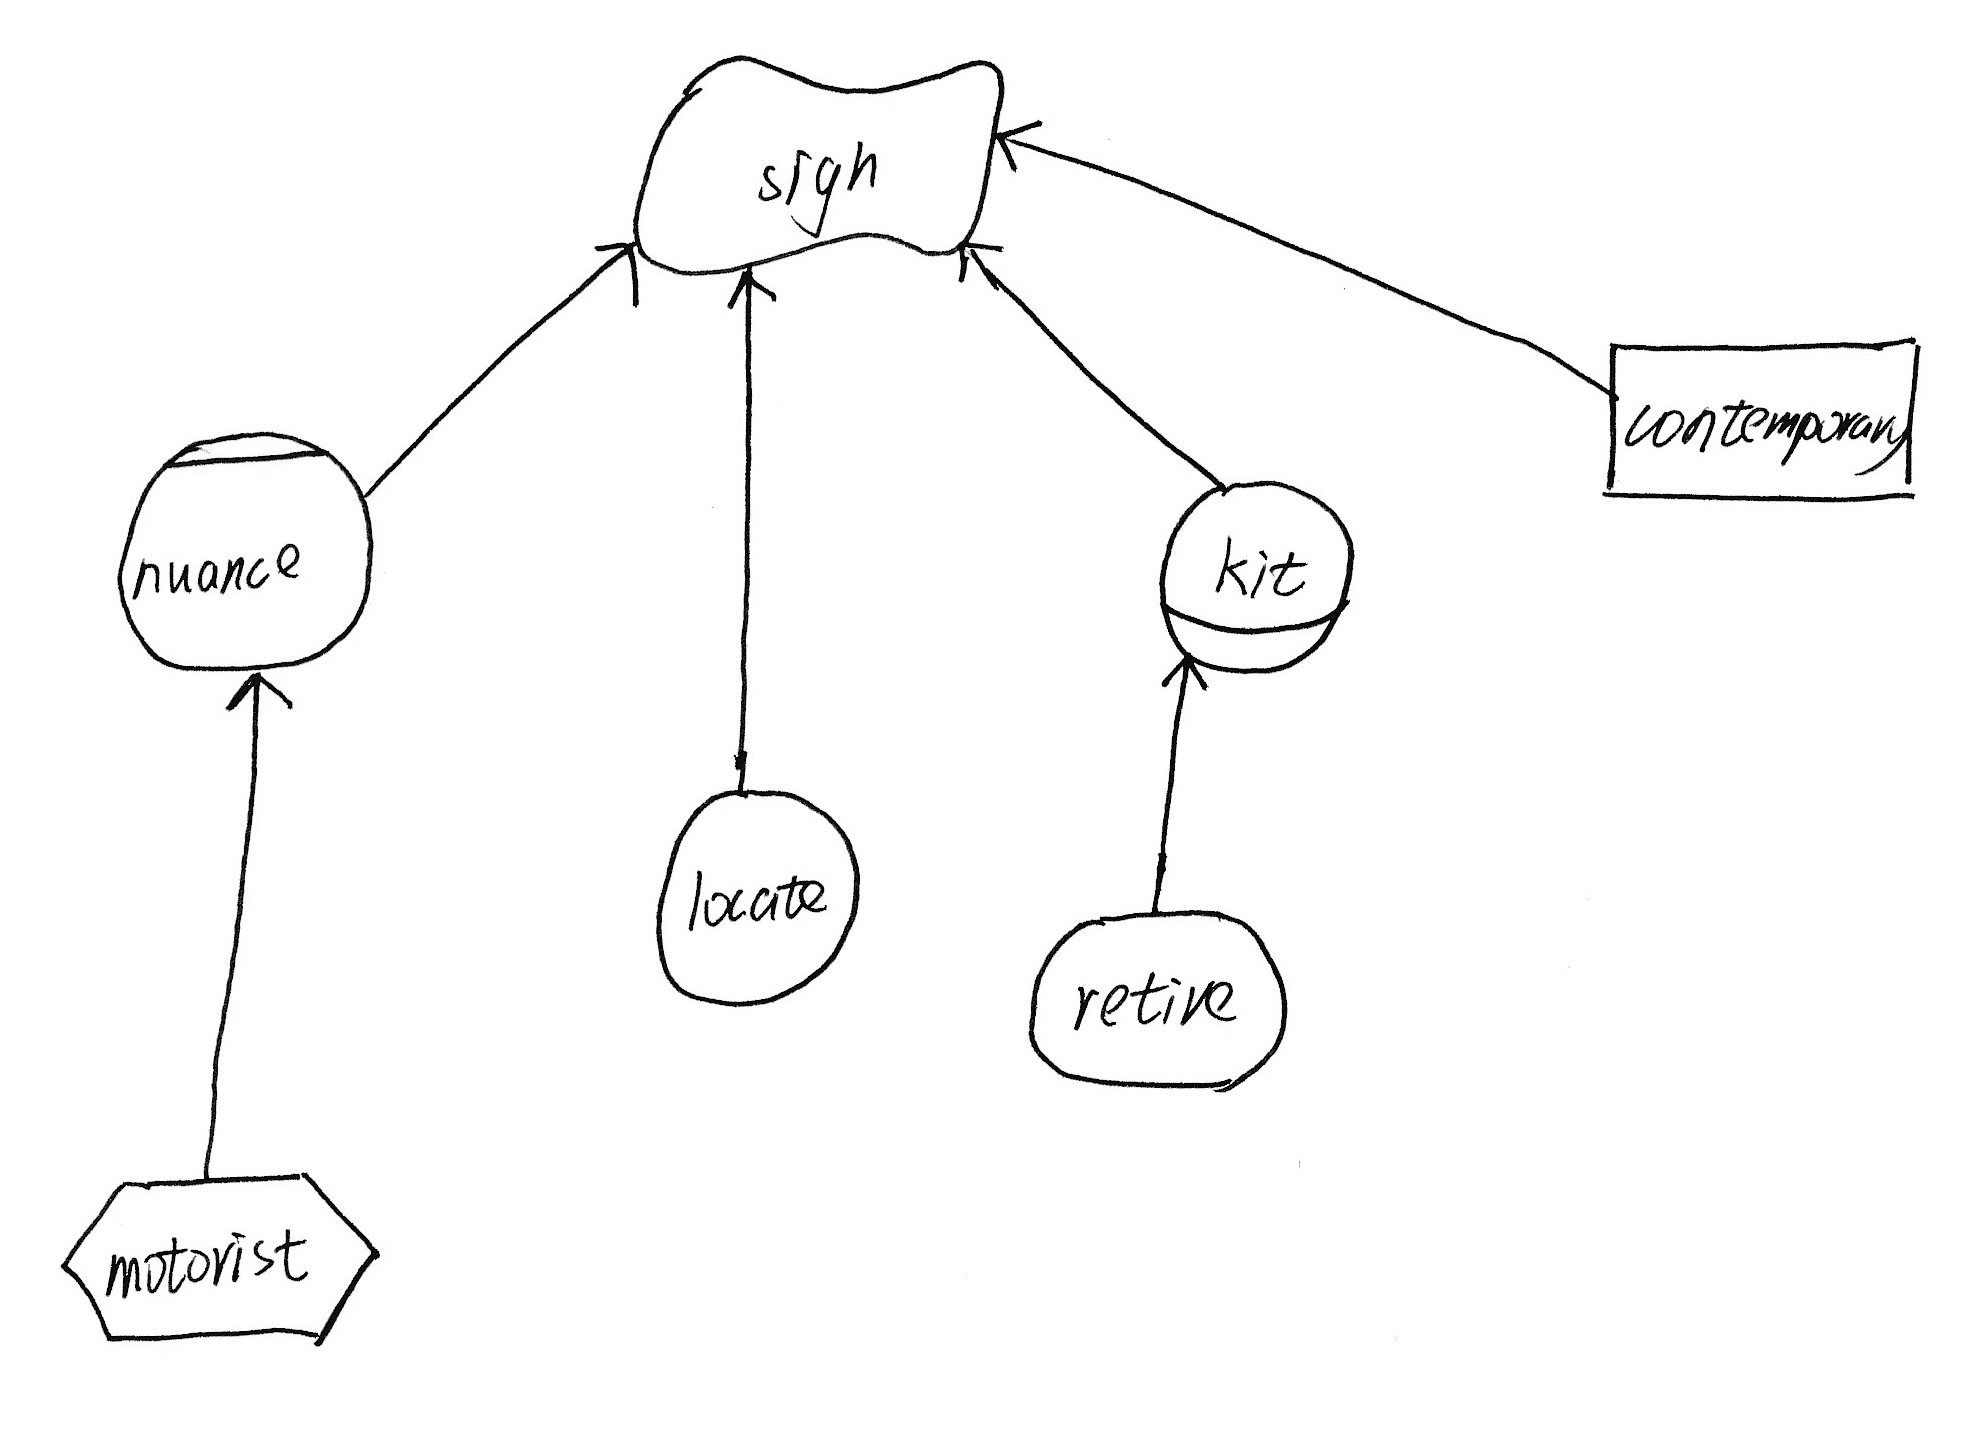actor: (644, 774, 876, 1019)
agent: (104, 414, 391, 697)
arrow: (581, 227, 664, 320), (937, 230, 1021, 304), (220, 662, 310, 725), (987, 110, 1057, 182), (722, 256, 784, 330), (1152, 641, 1220, 705)
goal: (1013, 893, 1306, 1109)
quality: (613, 37, 1027, 290)
resource: (1587, 325, 1944, 522)
role: (1143, 464, 1364, 694)
task: (46, 1158, 397, 1363)
